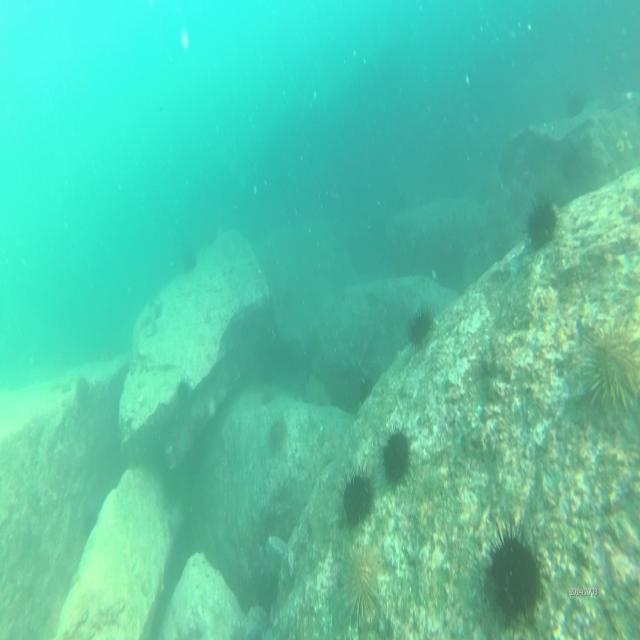echinus: (484, 511, 548, 627), (580, 308, 640, 428), (337, 535, 385, 629), (378, 419, 415, 492), (340, 458, 378, 527), (525, 195, 561, 252), (408, 304, 438, 352), (267, 411, 287, 454), (566, 87, 589, 122), (72, 374, 92, 406), (177, 380, 193, 412), (182, 248, 199, 276)
